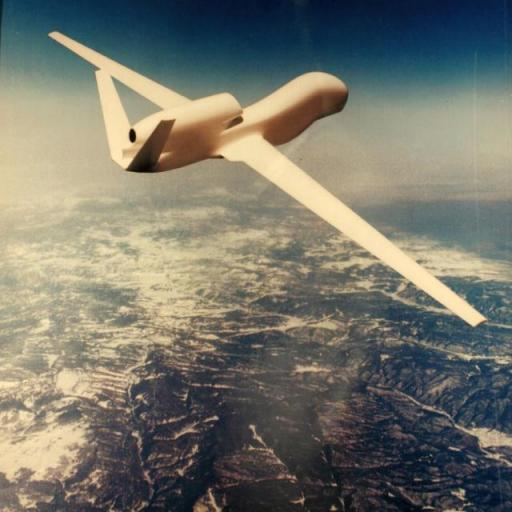uav: (46, 18, 488, 347)
